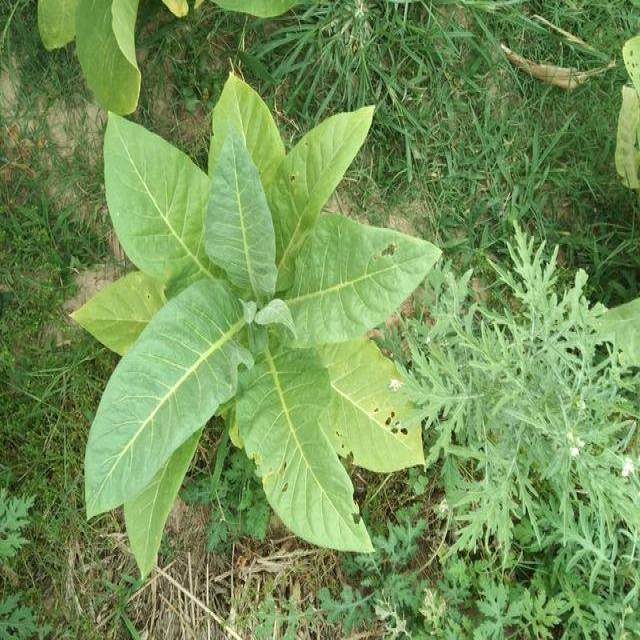crop: (84, 58, 436, 550)
